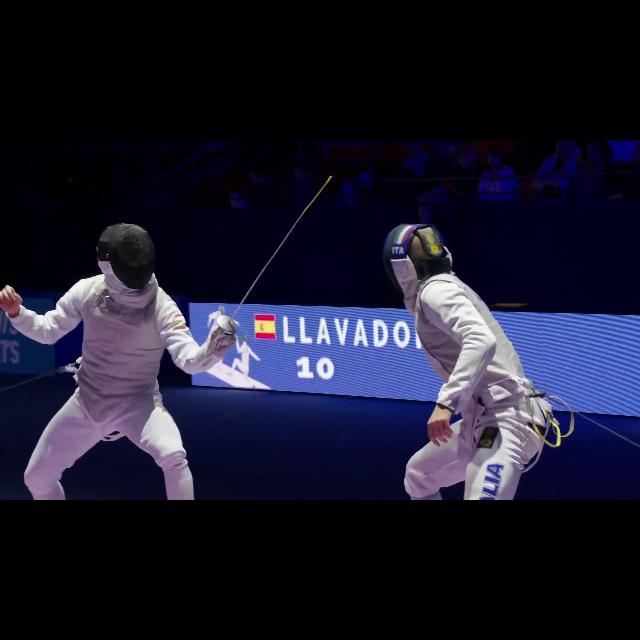blade: (217, 176, 337, 338)
